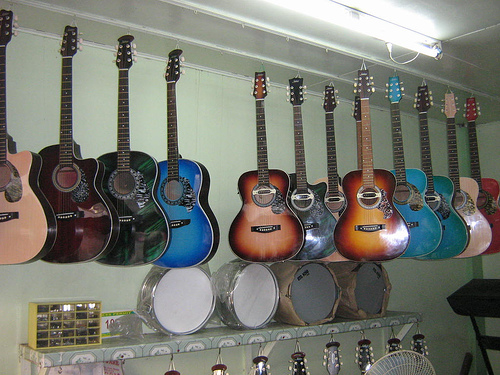guitar: (28, 22, 122, 265), (84, 29, 175, 267), (140, 44, 220, 267), (226, 68, 307, 264), (332, 69, 411, 260), (1, 9, 59, 265), (273, 74, 341, 258), (378, 71, 443, 259), (408, 80, 471, 259), (433, 88, 494, 259), (461, 94, 500, 255)
